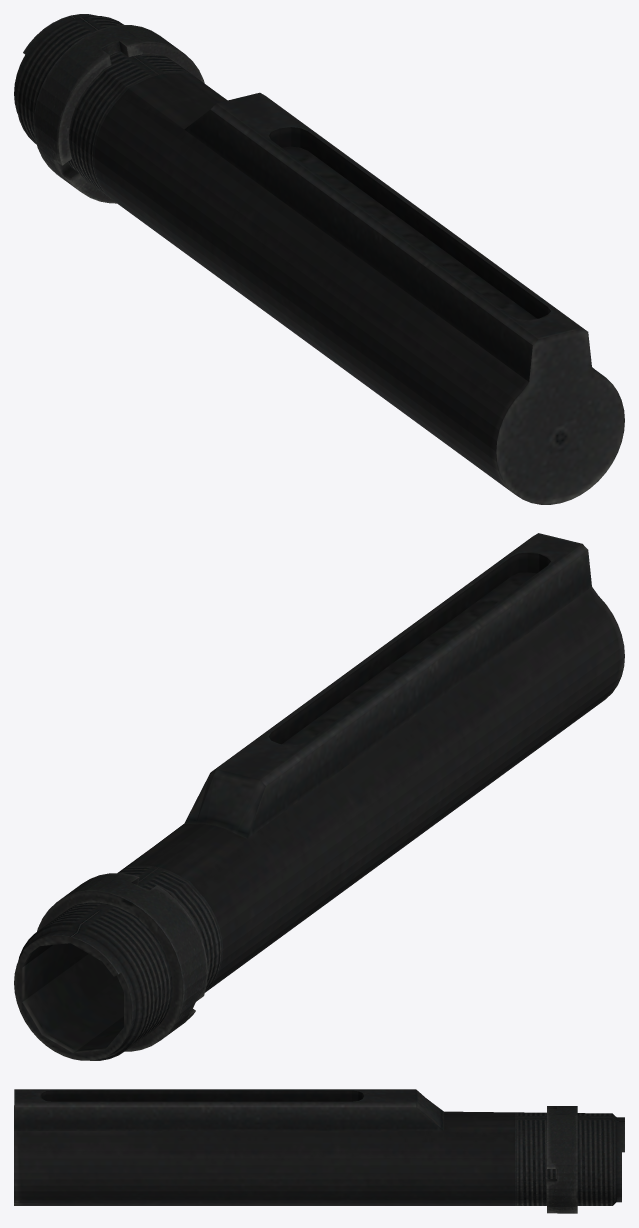
3 renders of one model, top to bottom at view 1: azimuth 30°, elevation 25°; view 2: azimuth 150°, elevation 25°; view 3: azimuth 270°, elevation 25°, orthographic. The views are drawn at different scales.
Visible parts, largest first — view 1: TW_5649be884bdc2d79388b4577_PZ_Import; view 2: TW_5649be884bdc2d79388b4577_PZ_Import; view 3: TW_5649be884bdc2d79388b4577_PZ_Import.
Part boxes in pixels (left/top/right/bottom): TW_5649be884bdc2d79388b4577_PZ_Import: left=14, top=14, right=624, bottom=504; TW_5649be884bdc2d79388b4577_PZ_Import: left=14, top=533, right=624, bottom=1060; TW_5649be884bdc2d79388b4577_PZ_Import: left=14, top=1089, right=624, bottom=1213.
Bounding box in the file's own units: 0.02 × 0.1132 × 0.023.
Materials: 1 (1 with a texture image).
